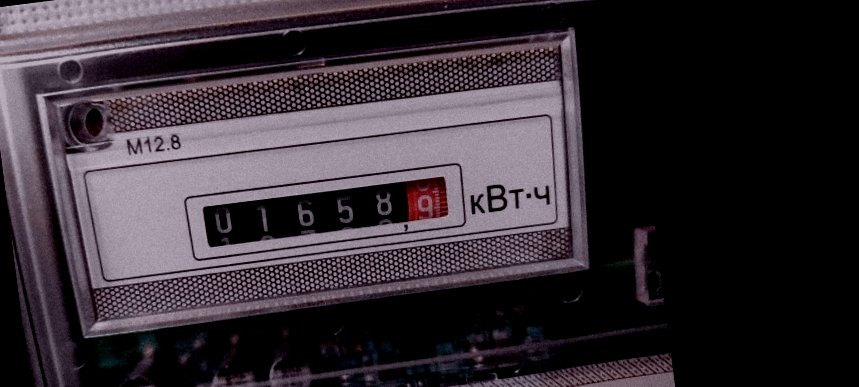0: (209, 201, 234, 235)
1: (253, 200, 270, 233)
5: (333, 191, 356, 225)
6: (293, 194, 317, 228)
8: (371, 184, 394, 218)
9: (413, 191, 434, 219)
screen: (174, 151, 473, 266)
